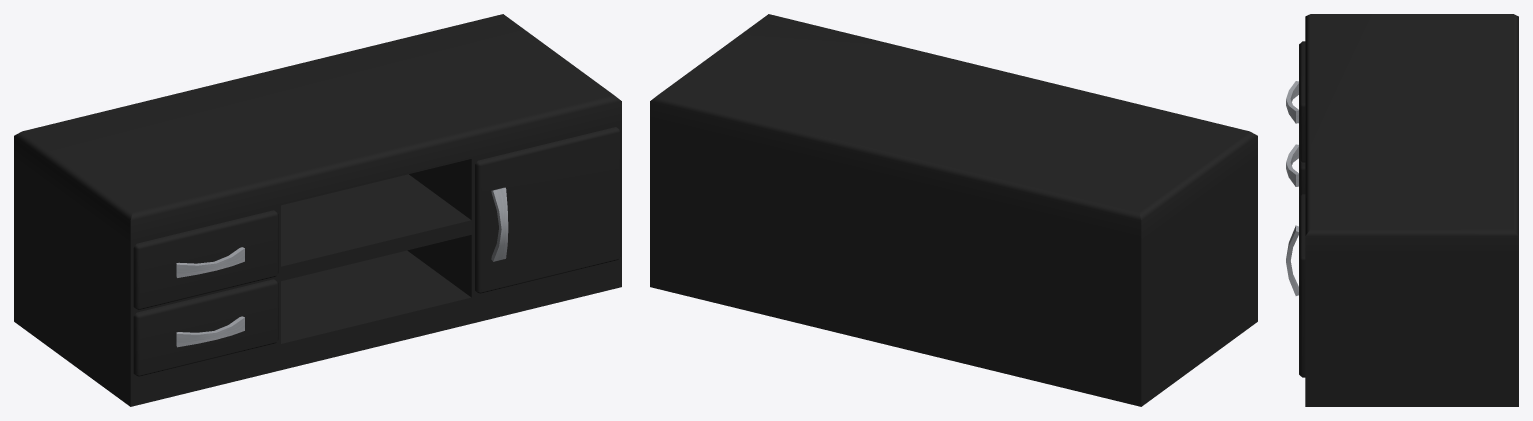
Rendered from wall_cabinet_030.fbx.
3 renders of one model, left to right at view 1: azimuth 30°, elevation 25°; view 2: azimuth 150°, elevation 25°; view 3: azimuth 270°, elevation 25°, orthographic. The views are drawn at different scales.
Parts seen in each view (by area): view 1: wall_cabinet_030; view 2: wall_cabinet_030; view 3: wall_cabinet_030.
Part boxes in pixels (<box>): wall_cabinet_030: <box>14,14,621,406</box>; wall_cabinet_030: <box>650,14,1257,406</box>; wall_cabinet_030: <box>1286,14,1518,406</box>.
Size of the model in its own units: 208 by 92.94 by 77.17.
